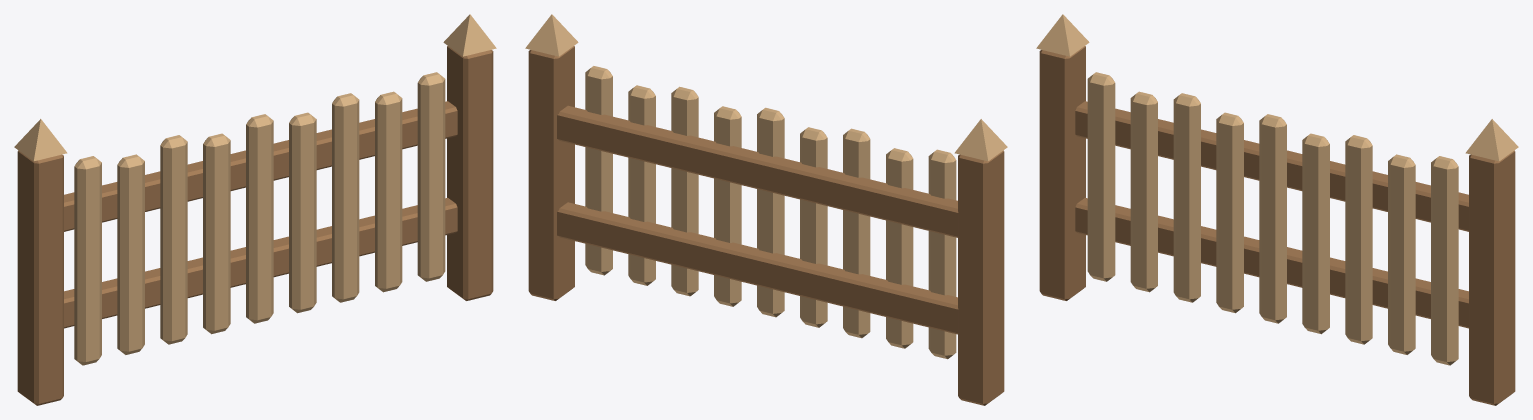
3 renders of one model, left to right at view 1: azimuth 30°, elevation 25°; view 2: azimuth 150°, elevation 25°; view 3: azimuth 330°, elevation 25°, orthographic.
Parts seen in each view (by area): view 1: village-fence-straight-01; view 2: village-fence-straight-01; view 3: village-fence-straight-01.
Part boxes in pixels (bbox=[...]): village-fence-straight-01: bbox=[14, 14, 496, 405]; village-fence-straight-01: bbox=[525, 14, 1007, 405]; village-fence-straight-01: bbox=[1036, 14, 1518, 405].
Bounding box in the file's own units: 2.16 × 1.24 × 0.16.
